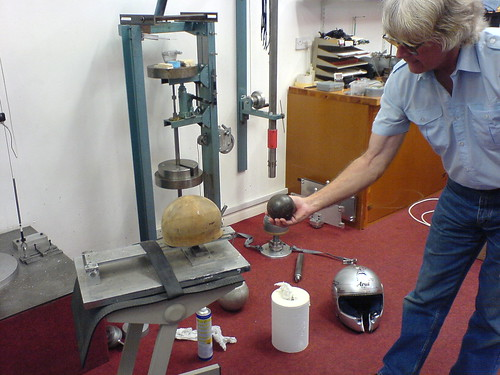helmet: (329, 264, 388, 306)
